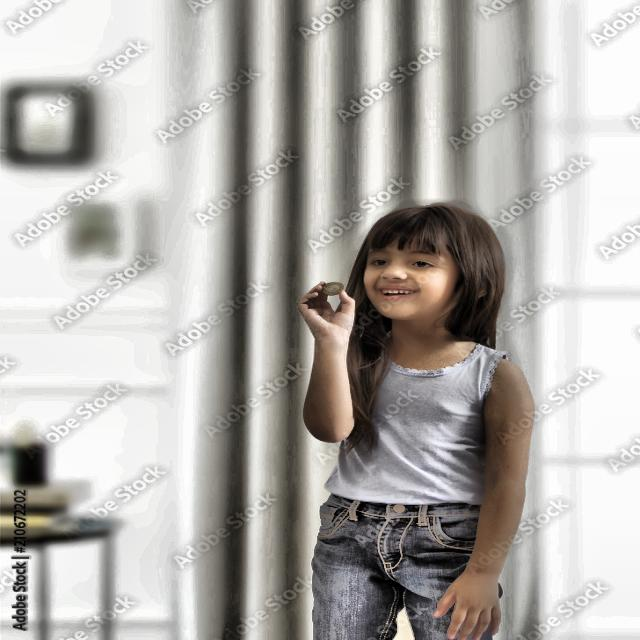Human: (276, 197, 536, 640)
